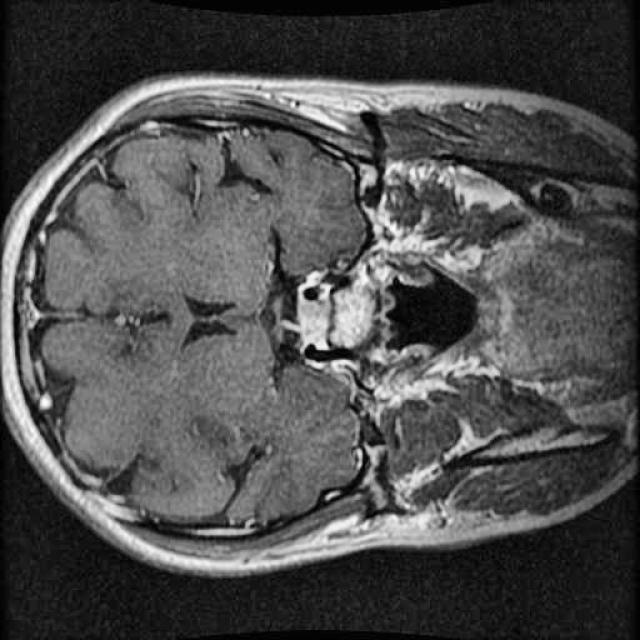Tumor: (286, 289, 348, 345)
